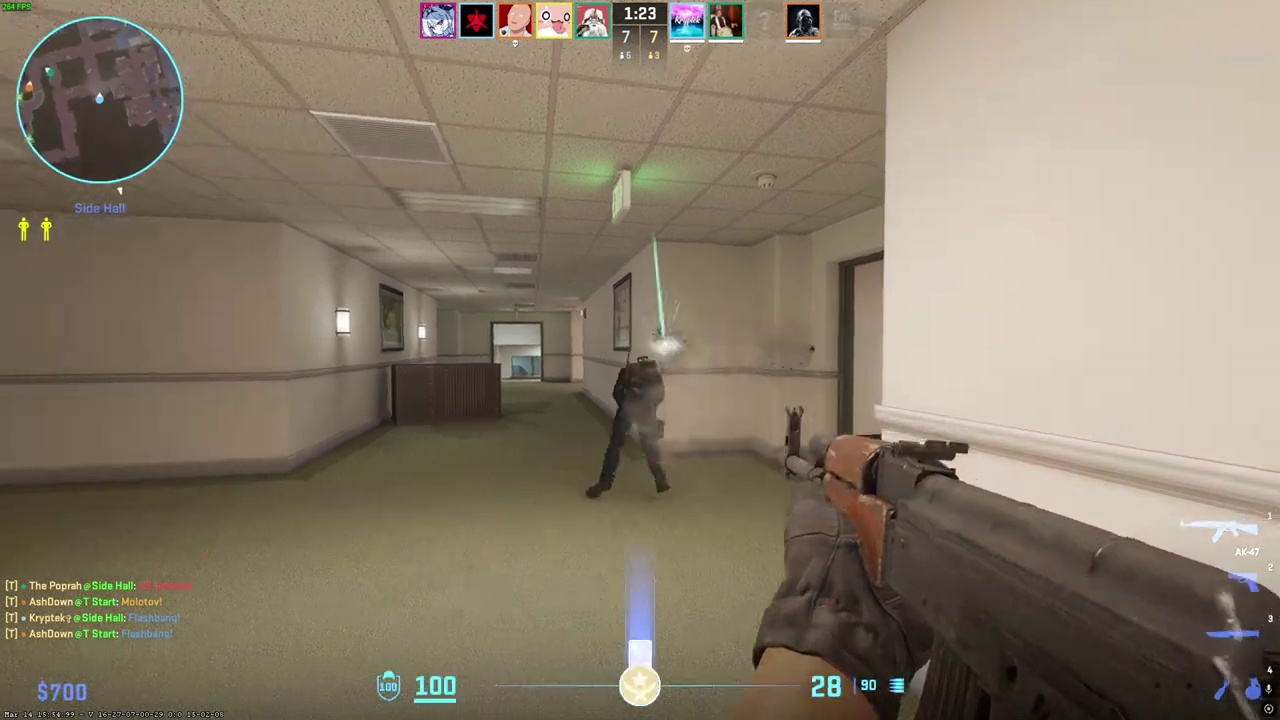CT: (597, 357, 669, 498)
